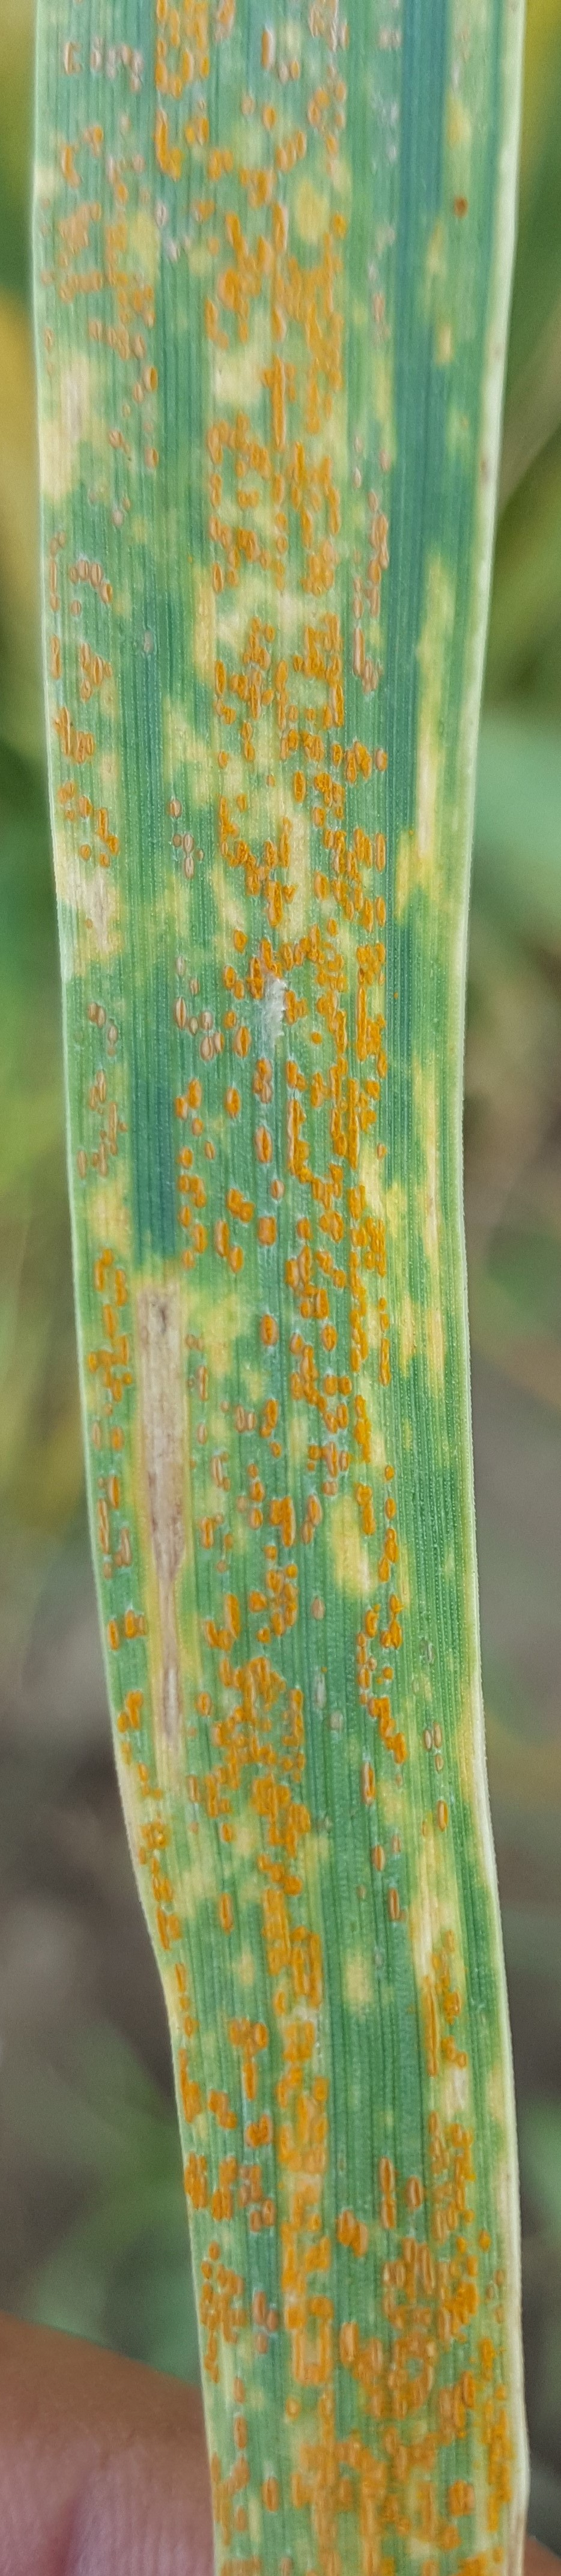Leaf Rust: (10, 103, 474, 2495)
